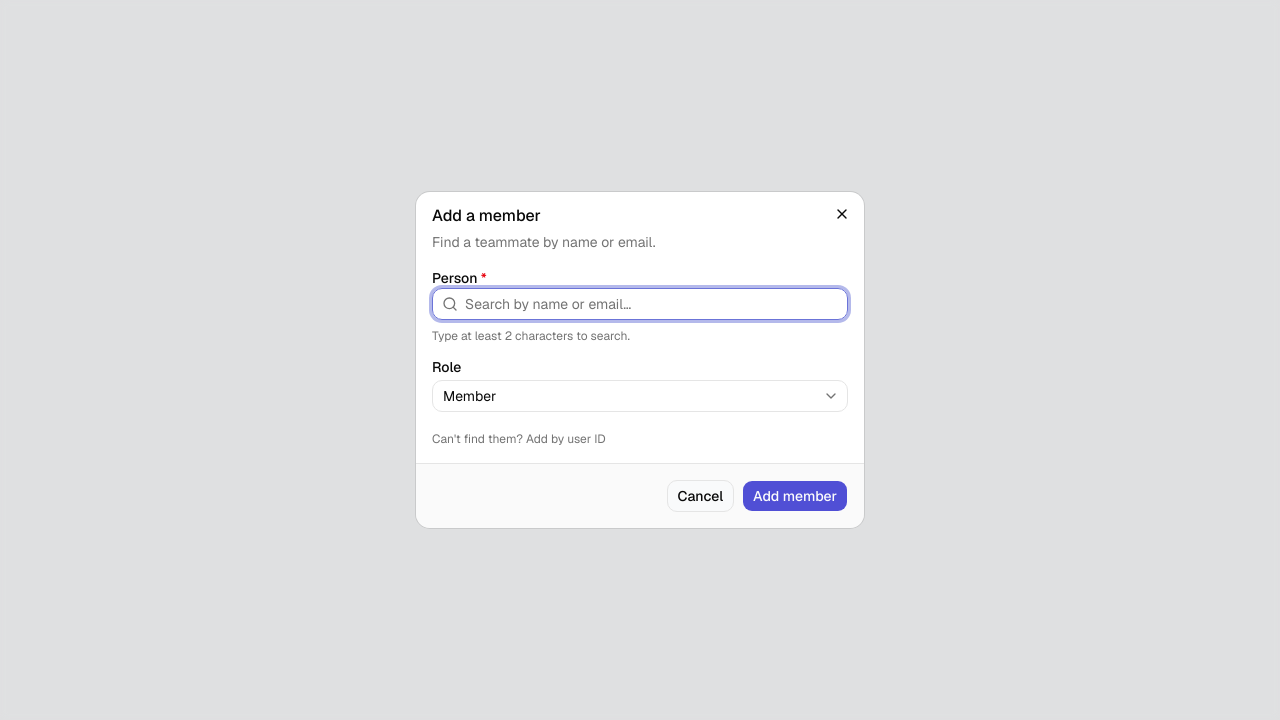
AddMemberDialog (search by name) › shows an empty state when nobody matches
Type "zzzz" into the dropdown with placeholder "Search by name or email…" at (640, 304), box [432,288,848,320]
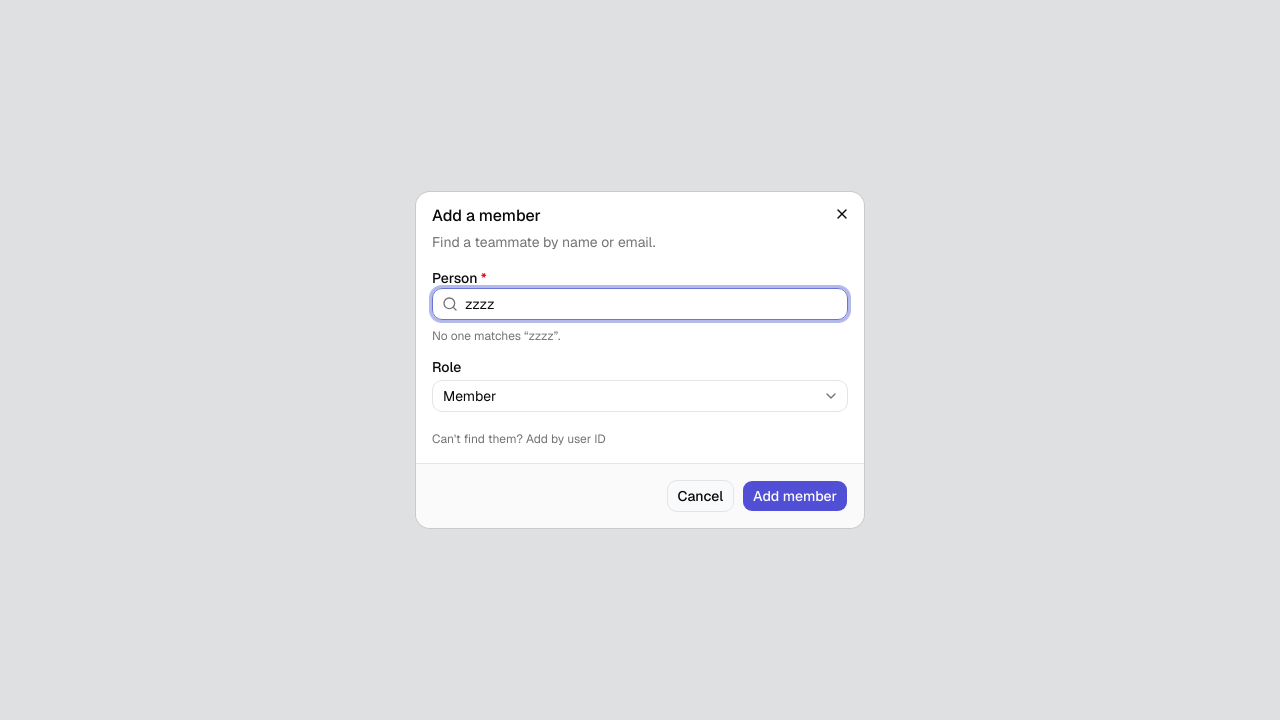
Check: the text "No one matches “zzzz”." is shown, box [432,328,560,344]
